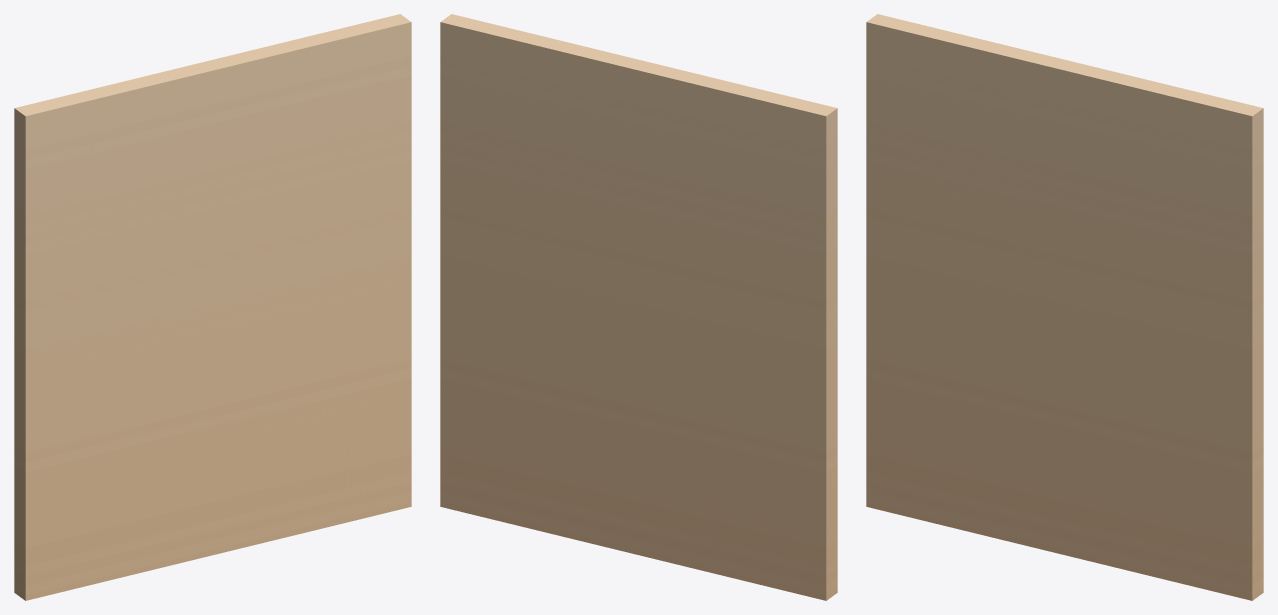
The model's file is Shell_Wall.glb.
3 views of the same model, side by side, from view 1: azimuth 30°, elevation 25°; view 2: azimuth 150°, elevation 25°; view 3: azimuth 330°, elevation 25° (orthographic).
Parts seen in each view (by area): view 1: Shell_Wall; view 2: Shell_Wall; view 3: Shell_Wall.
Boxes of the visible parts, x1,y1,x2,y2 form: Shell_Wall: [14, 14, 411, 600]; Shell_Wall: [440, 14, 837, 600]; Shell_Wall: [866, 14, 1263, 600].
Size of the model in its own units: 2 by 2.4 by 0.1.
Materials: 1 (1 with a texture image).
